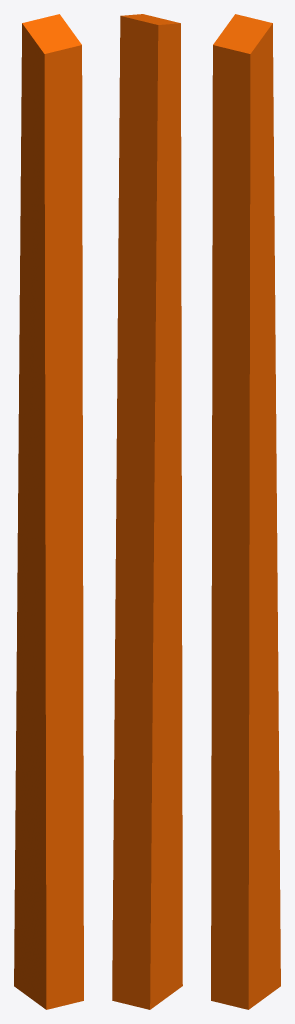
Rendered from SD_Prop_Lava_Flow_01.fbx.
3 views of the same model, side by side, from view 1: azimuth 30°, elevation 25°; view 2: azimuth 150°, elevation 25°; view 3: azimuth 330°, elevation 25° (orthographic).
Visible parts, largest first — view 1: SD_Prop_Lava_Flow_01; view 2: SD_Prop_Lava_Flow_01; view 3: SD_Prop_Lava_Flow_01.
Part boxes in pixels (box(x1,y1,x2,y2)): SD_Prop_Lava_Flow_01: box(14, 14, 83, 1009); SD_Prop_Lava_Flow_01: box(112, 14, 182, 1009); SD_Prop_Lava_Flow_01: box(211, 14, 280, 1009).
Bounding box in the file's own units: 0.3472 × 8.56 × 0.5186.
